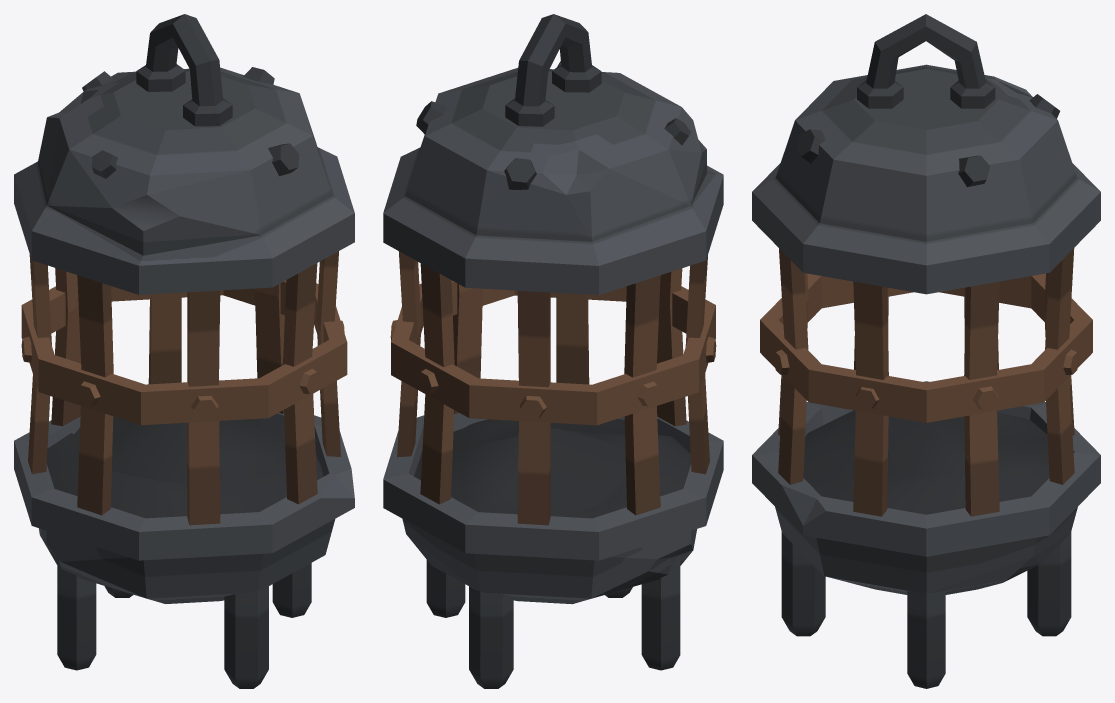
Rendered from SM_Prop_Lantern_01.fbx.
3 views of the same model, side by side, from view 1: azimuth 30°, elevation 25°; view 2: azimuth 150°, elevation 25°; view 3: azimuth 270°, elevation 25° (orthographic).
Visible parts, largest first — view 1: SM_Prop_Lantern_01; view 2: SM_Prop_Lantern_01; view 3: SM_Prop_Lantern_01.
Part boxes in pixels (x1,y1,x2,y2): SM_Prop_Lantern_01: (14,14,354,688); SM_Prop_Lantern_01: (383,14,723,688); SM_Prop_Lantern_01: (752,14,1100,688).
Bounding box in the file's own units: 29 × 56.63 × 29.
